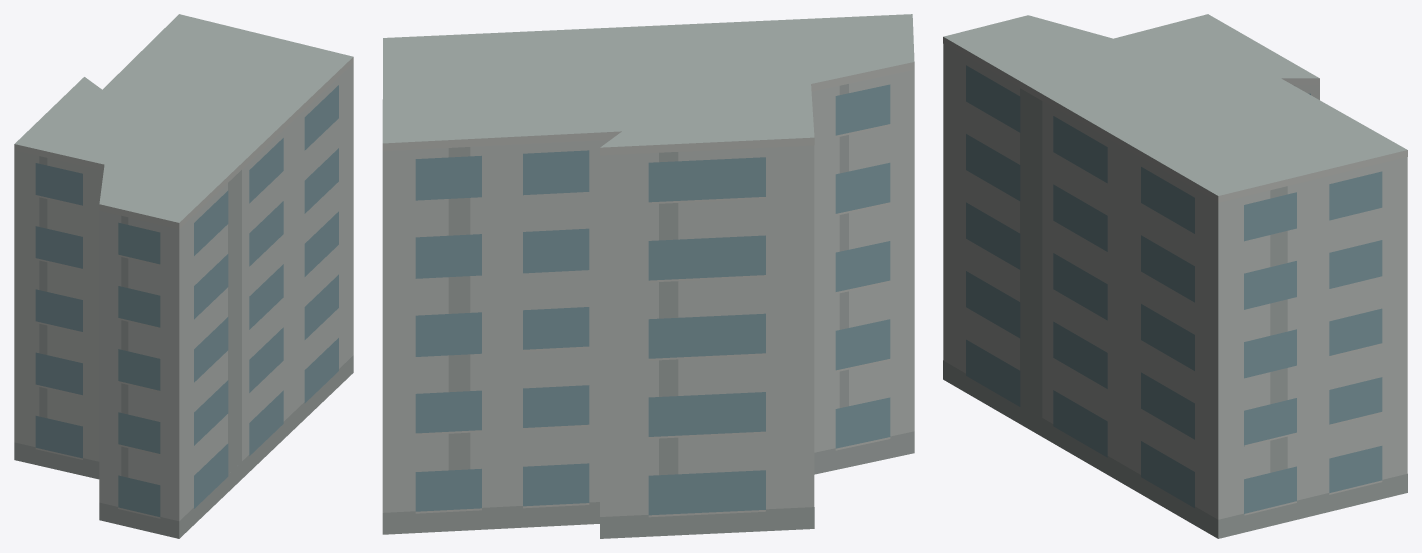
The model's file is survey-upis-32912689.glb.
3 views of the same model, side by side, from view 1: azimuth 30°, elevation 25°; view 2: azimuth 150°, elevation 25°; view 3: azimuth 270°, elevation 25° (orthographic). The views are drawn at different scales.
Visible parts, largest first — view 1: survey-upis-32912689.tmp; view 2: survey-upis-32912689.tmp; view 3: survey-upis-32912689.tmp.
Part boxes in pixels (x1,y1,x2,y2): survey-upis-32912689.tmp: [14, 14, 353, 538]; survey-upis-32912689.tmp: [382, 14, 914, 538]; survey-upis-32912689.tmp: [943, 14, 1407, 538].
Size of the model in its own units: 13.79 by 12.1 by 14.87.
